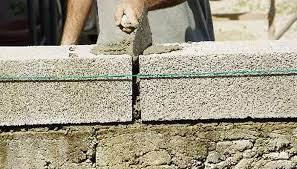brick: (140, 53, 297, 122), (0, 57, 132, 127), (95, 124, 295, 168), (1, 127, 95, 169)
